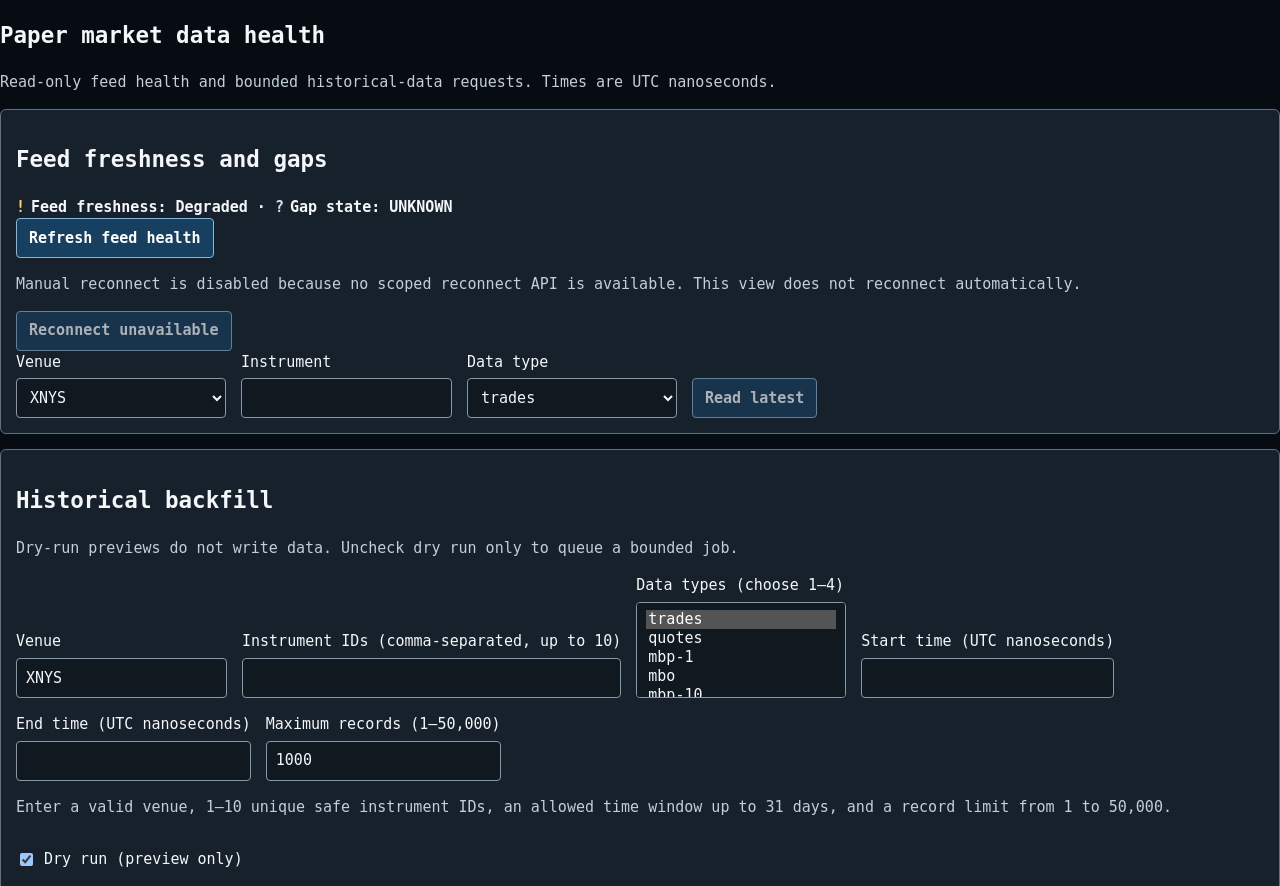
Test: PaperMarketDataHealthView › shows backfill progress only from a returned status and keeps event/ingest times separate
Type "AAPL" into the field named "Backfill instruments" at (432, 678), box [242,658,621,698]
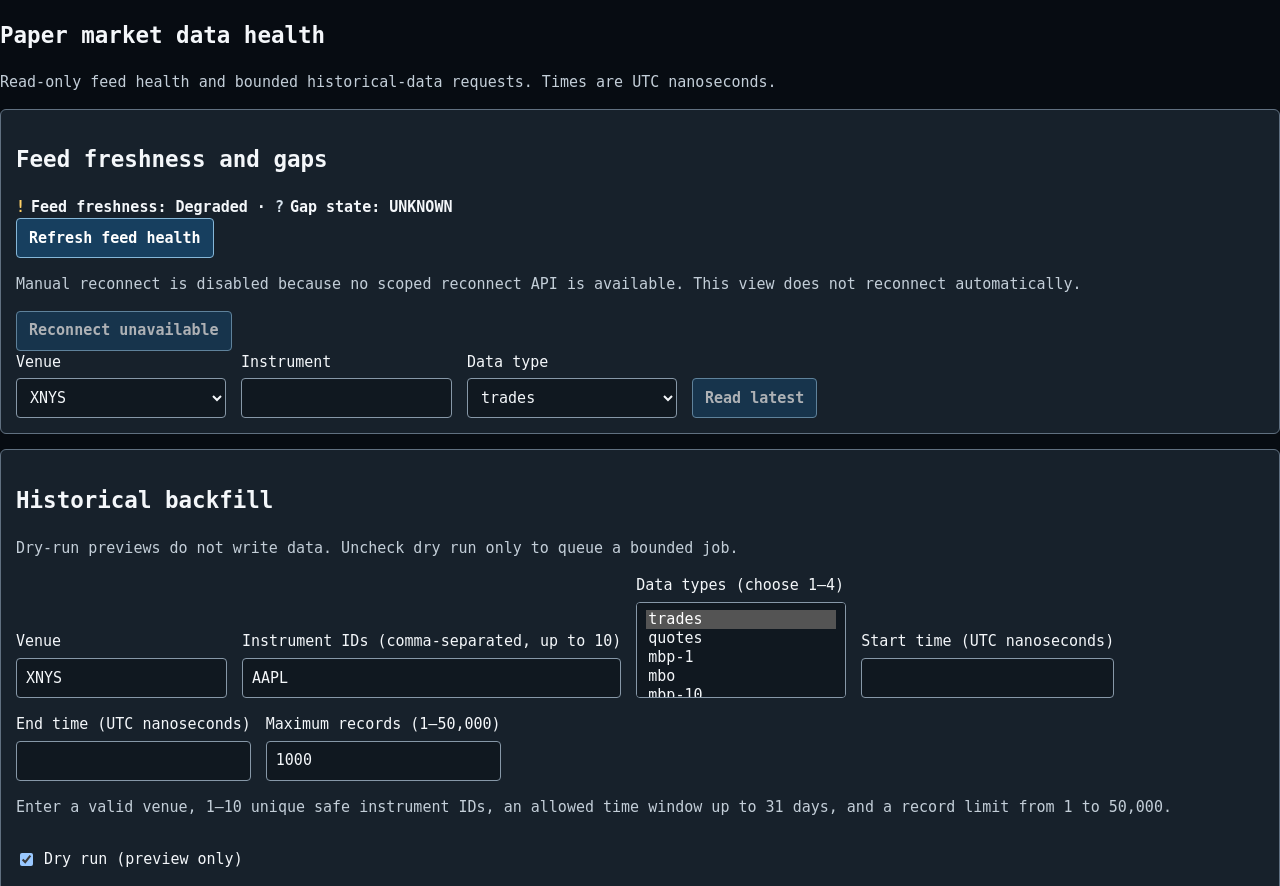
Type "1710000000000000001" into the field named "Backfill start time UTC nanoseconds" at (988, 678), box [861,658,1114,698]
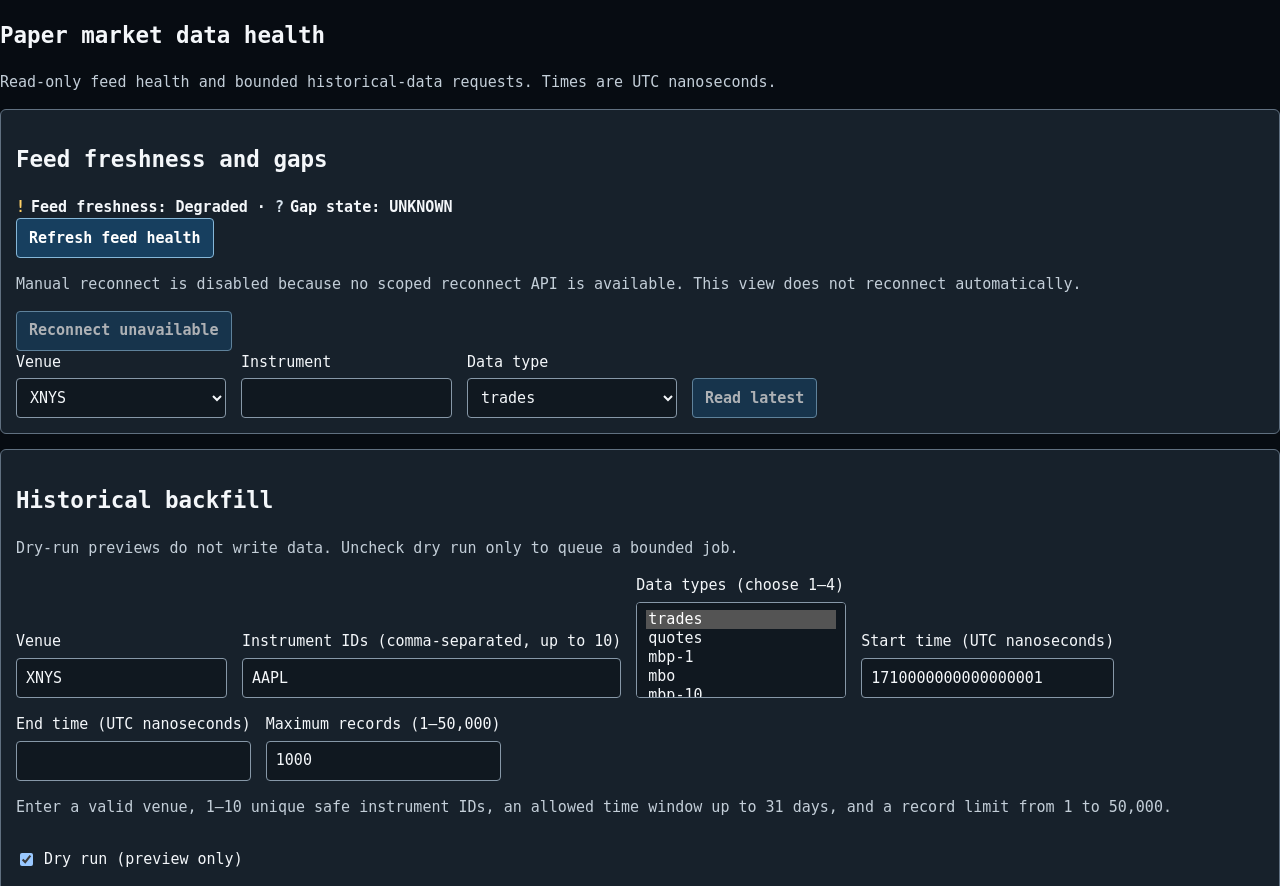
Type "1710000000000000999" into the field named "Backfill end time UTC nanoseconds" at (133, 760), box [16,740,251,780]
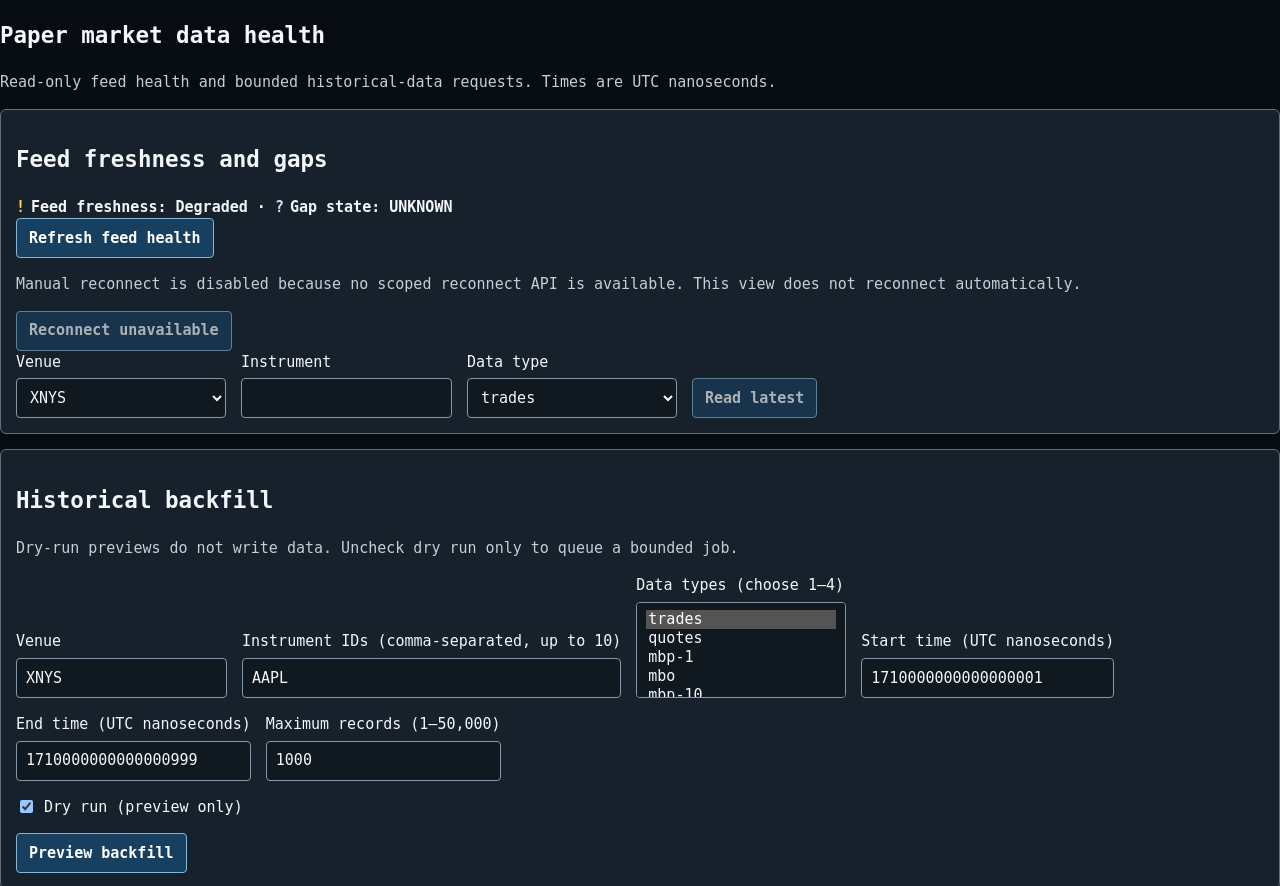
Click the checkbox named "Dry run backfill" at (26, 807), box [20,800,33,813]
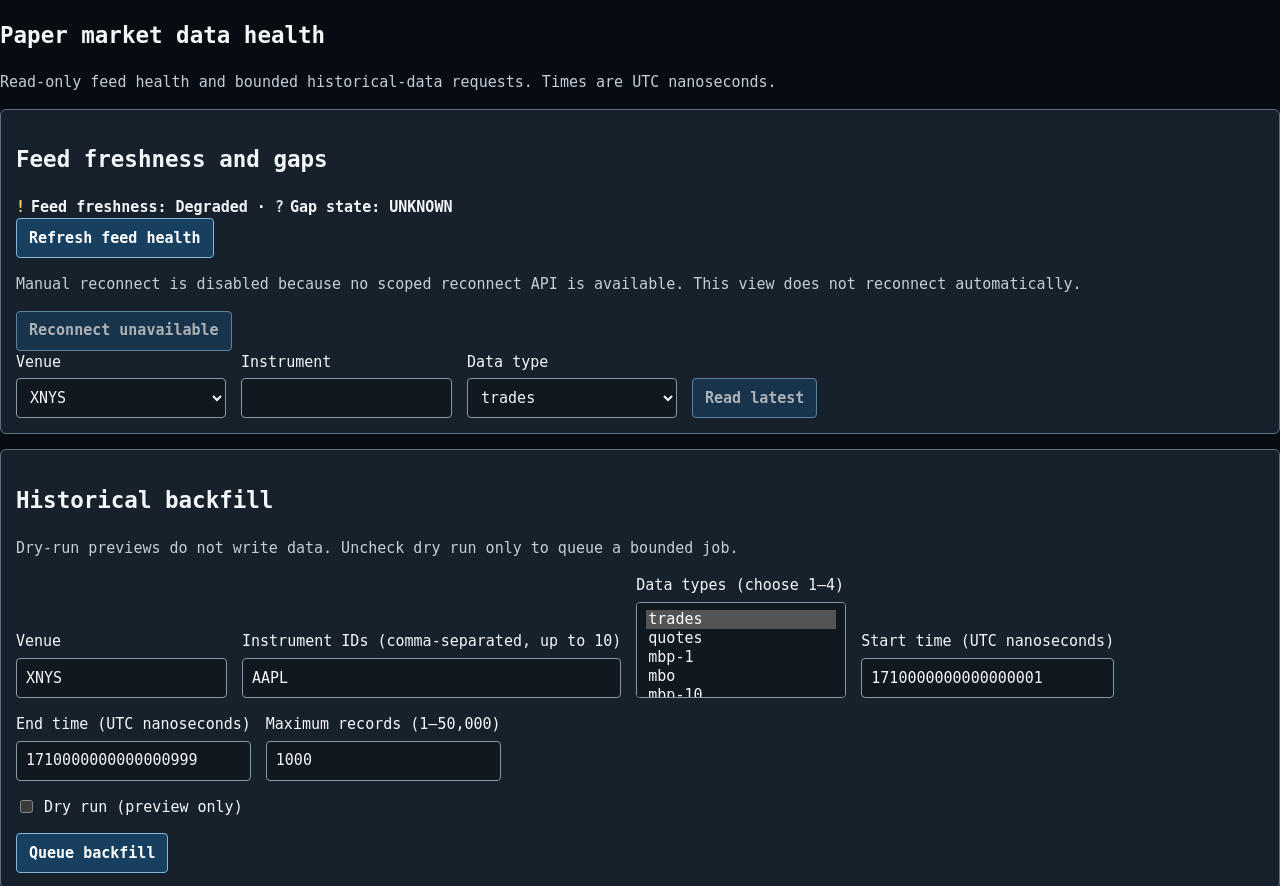
Click the button "Queue backfill" at (92, 853), box [16,833,168,873]
(page scrolled)
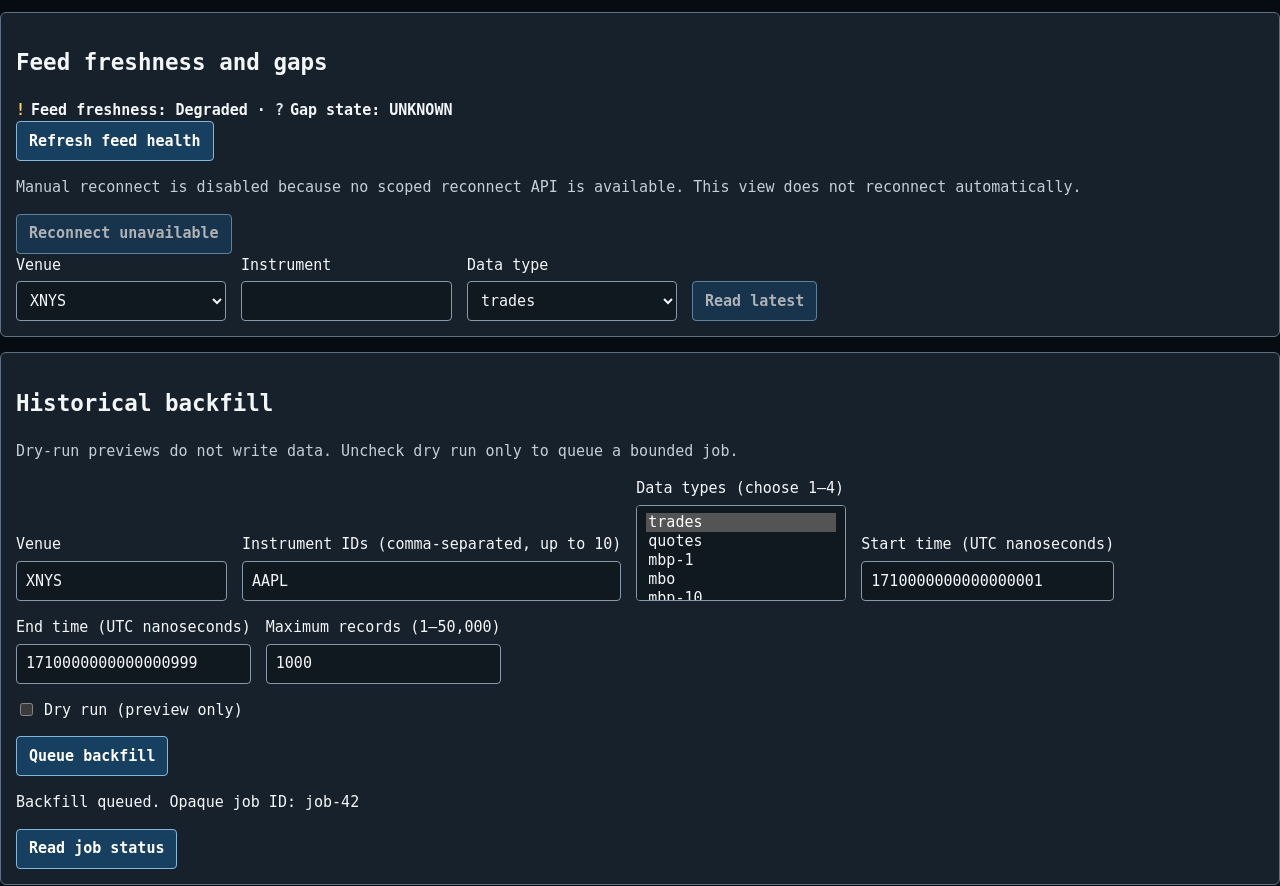
Expected: the text "Backfill queued. Opaque job ID: job-42" is shown, [16,793,359,811]
Click the button "Read job status" at (97, 848), box [16,828,178,868]
(page scrolled)
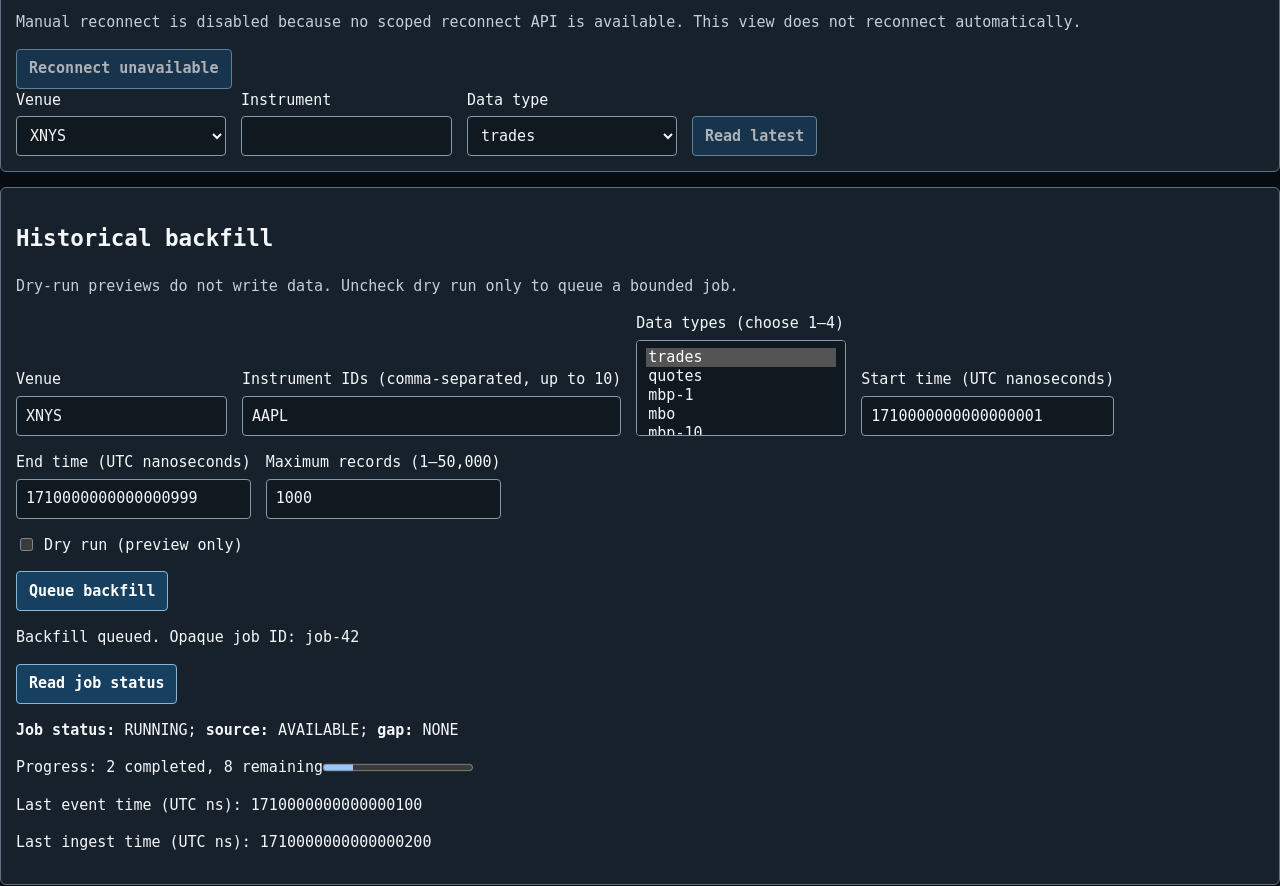
Expected: the text "1710000000000000100" is shown, [251,796,422,814]
Expected: the text "1710000000000000200" is shown, [260,833,431,851]
